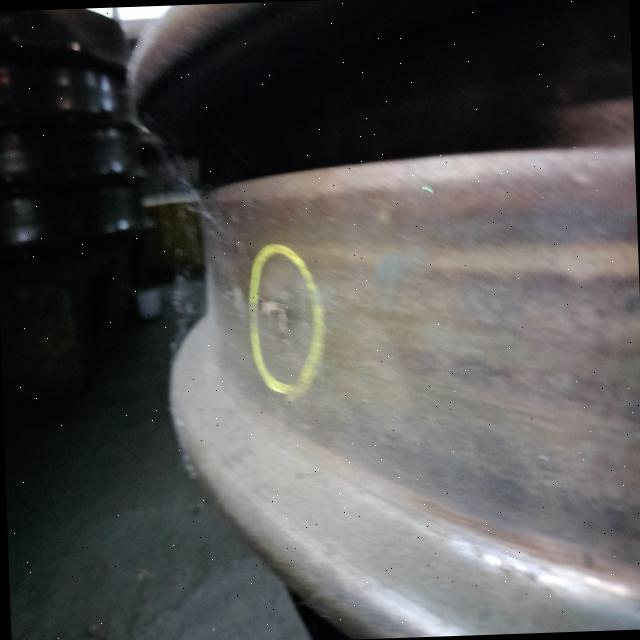Blue hole: (258, 292, 303, 354)
